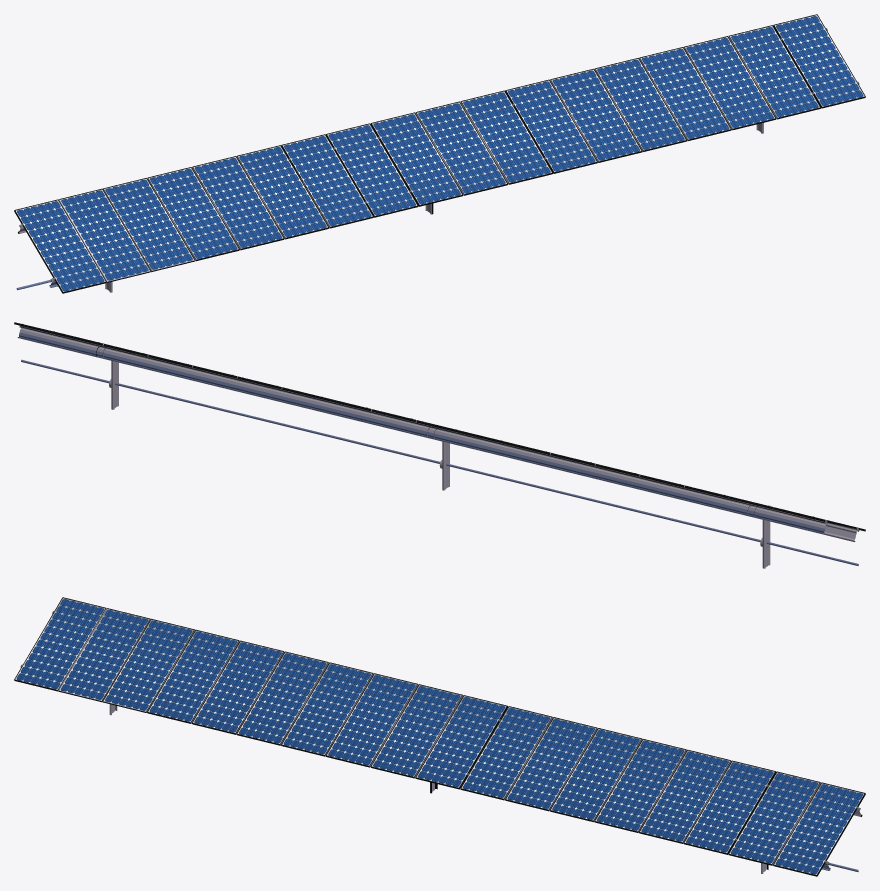
The model's file is Panel29m.glb.
3 views of the same model, one above another, from view 1: azimuth 30°, elevation 25°; view 2: azimuth 150°, elevation 25°; view 3: azimuth 330°, elevation 25° (orthographic).
Visible parts, largest first — view 1: Cylinder.001; view 2: Cylinder.001; view 3: Cylinder.001.
Part boxes in pixels (x1,y1,x2,y2): Cylinder.001: [14, 14, 865, 293]; Cylinder.001: [14, 322, 865, 568]; Cylinder.001: [14, 597, 865, 876].
Bounding box in the file's own units: 30.34 × 2.84 × 3.08.
22 materials, 20 textured.
